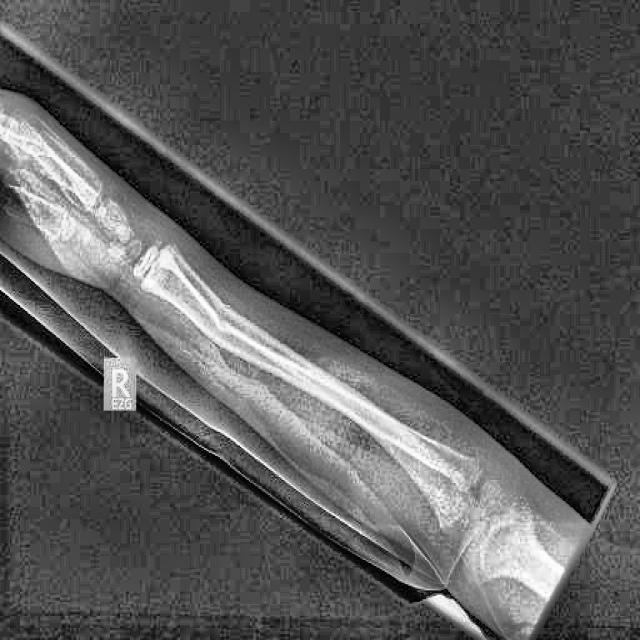forearm fracture: (189, 277, 271, 377)
